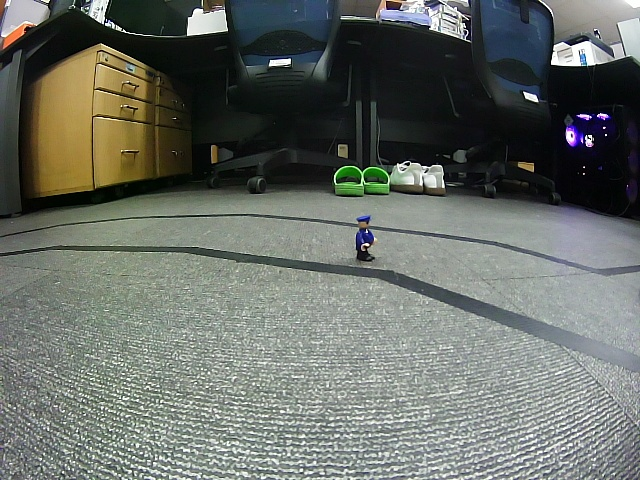person: (355, 215, 377, 263)
